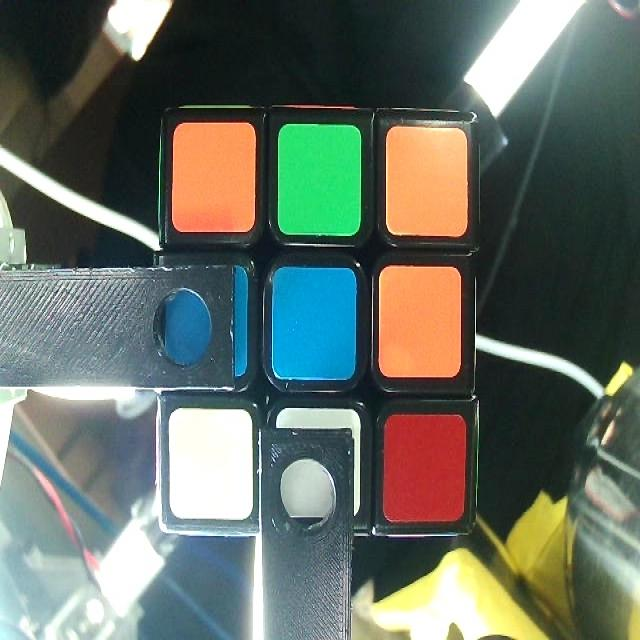b: (274, 268, 355, 380), (163, 271, 245, 378)
g: (279, 128, 360, 233)
o: (388, 129, 466, 231), (177, 124, 250, 227), (383, 271, 457, 372)
r: (387, 420, 461, 516)
w: (278, 412, 360, 520), (171, 410, 247, 514)
